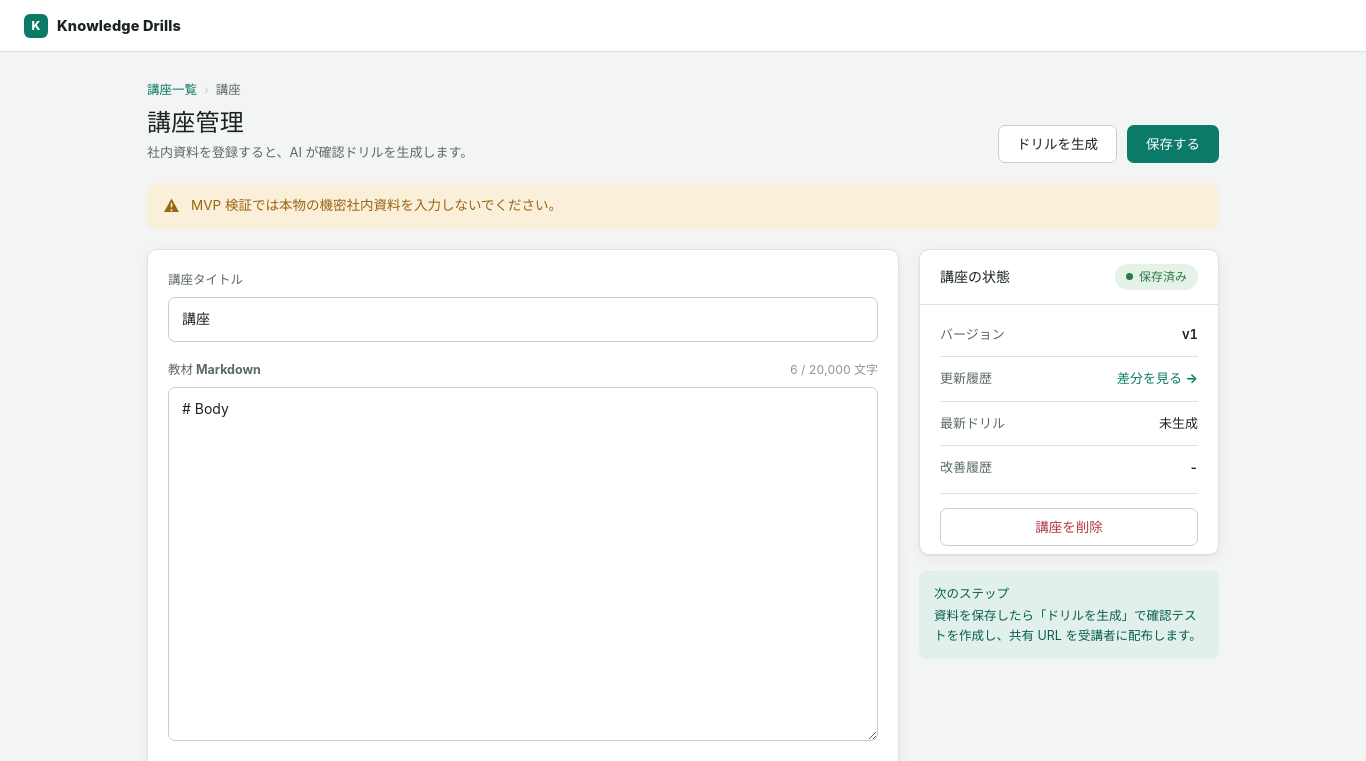
Test case: CourseEditorPage › shows an error banner when course deletion fails
This screenshot has width=1366, height=761.
Expected: the field showing "講座" is shown, [168,298,878,342]
Click the button "講座を削除" at (1069, 527), box [940,508,1198,546]
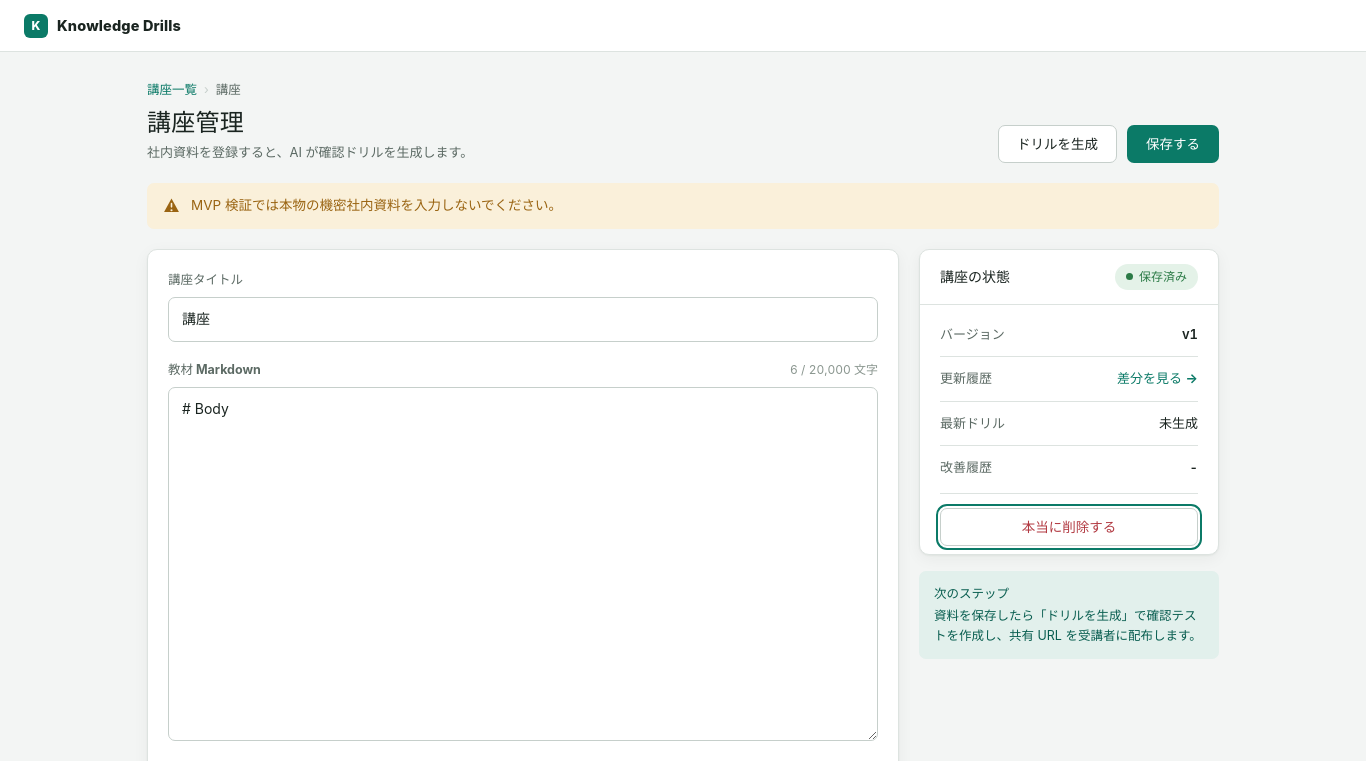
Click the button "本当に削除する" at (1069, 527), box [940,508,1198,546]
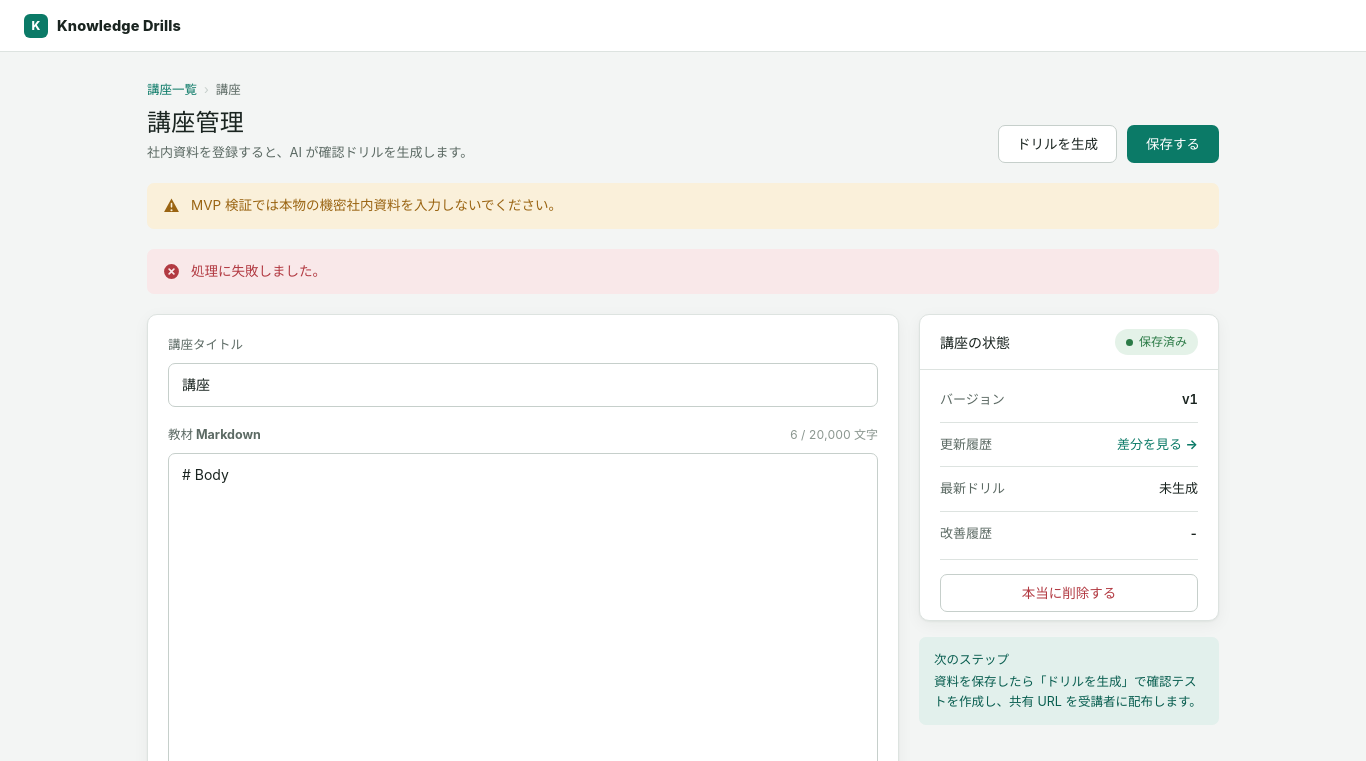
Now the text "処理に失敗しました。" is shown, box [191,261,326,282]
